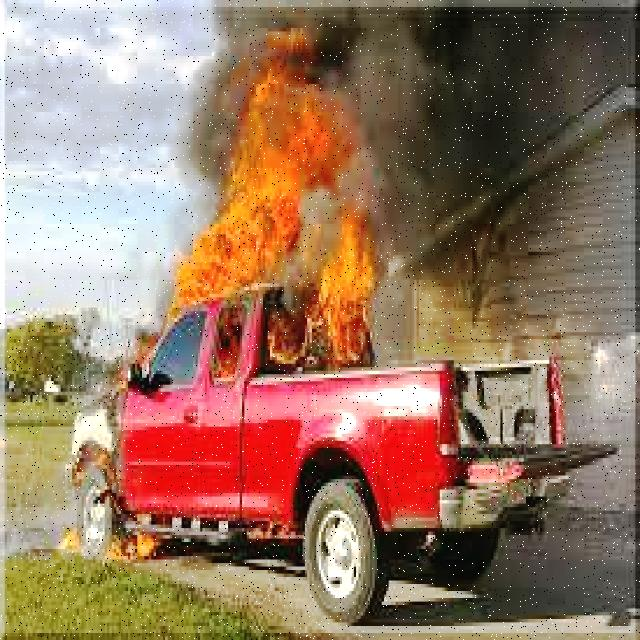api: (123, 33, 383, 389)
